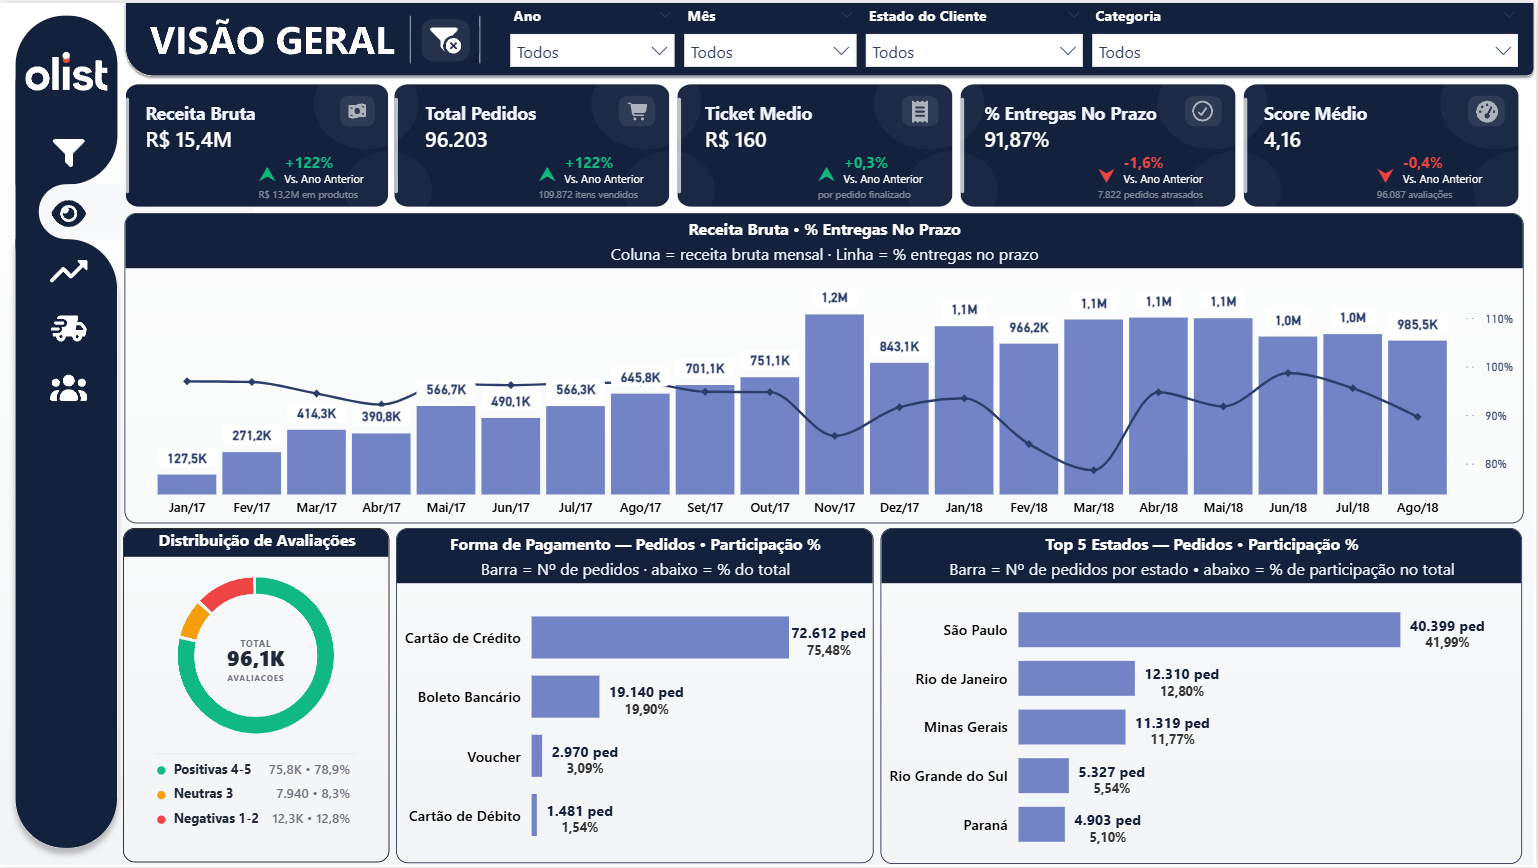

The page's visual inventory and layout, read from the dashboard file:
{"tool":"powerbi","page":{"name":"VISAO_GERAL","canvas":[1280,720],"ordinal":1},"visuals":[{"type":"group","id":"g1","title":"g_topbar","box":[345,3,925,58.1],"z":0},{"type":"group","id":"g2","title":"g_dados","box":[100.9,64.1,1178.6,653.2],"z":1000},{"type":"group","id":"g3","title":"g_btn_navegacao","box":[19,33,75,310.4],"z":2000},{"type":"cardVisual","title":"grid_cartao","fields":{"Data":["_Medidas.Receita Bruta","_Medidas.Total Pedidos","_Medidas.Ticket Medio","_Medidas.% Entregas No Prazo","_Medidas.Score Médio"]},"box":[100.9,64.1,1178.6,107.1],"z":2501,"group":"g2"},{"type":"group","id":"g4","title":"g_filtros","box":[420,3,850,58.1],"z":3001,"group":"g1"},{"type":"lineClusteredColumnComboChart","title":"Receita Bruta •  % Entregas No Prazo","fields":{"Category":["Dim_Calendario.MesAnoTexto"],"Y":["_Medidas.Receita Bruta"],"Y2":["_Medidas.% Entregas No Prazo"]},"box":[102.9,175.7,1165.7,258.6],"z":3001,"group":"g2"},{"type":"clusteredBarChart","title":"Forma de Pagamento — Pedidos • Participação %","fields":{"Category":["Dim_Forma_Pagamento.Forma Pagamento"],"Y":["_Medidas.Total Pedidos"]},"box":[330,437.9,397.9,279.3],"z":3251,"group":"g2"},{"type":"clusteredBarChart","title":"Top 5 Estados — Pedidos • Participação %","fields":{"Category":["Estado.Estado Nome"],"Y":["_Medidas.Total Pedidos"]},"box":[733.6,437.3,534.5,280],"z":3376,"group":"g2"},{"type":"group","id":"g5","title":"g_donnut","box":[102,438,222.3,278.8],"z":3501,"group":"g2"},{"type":"actionButton","title":"btn_vendedores","box":[35.5,302.6,42.2,40.9],"z":4000,"group":"g3"},{"type":"actionButton","title":"btn_logistica","box":[35.6,255,42.2,41.1],"z":4062,"group":"g3"},{"type":"actionButton","title":"btn_comercial","box":[35.6,203,42.2,41.1],"z":4125,"group":"g3"},{"type":"actionButton","title":"btn_visao_geral","box":[35,155.2,42.2,41.3],"z":4250,"group":"g3"},{"type":"actionButton","title":"btn_menu_on","box":[35.8,104.2,42.1,41.1],"z":4375,"group":"g3"},{"type":"slicer","title":"Categoria","fields":{"Values":["Categoria.Categoria"]},"box":[905,3,365,56.7],"z":4500,"group":"g4"},{"type":"actionButton","title":"btn_home","box":[19,33,75,46.4],"z":4500,"group":"g3"},{"type":"slicer","title":"Estado do Cliente","fields":{"Values":["Estado.Estado Nome"]},"box":[716.4,3,191.1,57.8],"z":5000,"group":"g4"},{"type":"image","title":"Distribuição de Avaliações","box":[102.4,438,221.9,278.8],"z":5000,"group":"g5"},{"type":"slicer","title":"Mês","fields":{"Values":["Calendario.MesNome"]},"box":[565,3,153.3,56.7],"z":5125,"group":"g4"},{"type":"slicer","title":"Ano","fields":{"Values":["Dim_Calendario.Ano"]},"box":[420,3,146.9,58.1],"z":5250,"group":"g4"},{"type":"actionButton","title":"btn_reset_filtro_rapido","box":[345,11.6,52.8,40],"z":5500,"group":"g1"},{"type":"cardVisual","title":"tt_Distribuição_de_Avaliações","fields":{"Data":["_Medidas.% Entregas Atrasadas","_Medidas.% Entregas No Prazo"]},"box":[102,438.8,220.8,275.8],"z":6000,"group":"g5"}]}

Visuals, with their boxes in screenshot pixels (x1, y1, x2, y2), scaled from the page's 1280x720 canvas onto the 1538x868 screenshot:
"g_topbar" group: bbox=[415, 4, 1526, 74]
"g_dados" group: bbox=[121, 77, 1537, 865]
"g_btn_navegacao" group: bbox=[23, 40, 113, 414]
"grid_cartao" cardVisual: bbox=[121, 77, 1537, 206]
"g_filtros" group: bbox=[505, 4, 1526, 74]
"Receita Bruta •  % Entregas No Prazo" lineClusteredColumnComboChart: bbox=[124, 212, 1524, 524]
"Forma de Pagamento — Pedidos • Participação %" clusteredBarChart: bbox=[397, 528, 875, 865]
"Top 5 Estados — Pedidos • Participação %" clusteredBarChart: bbox=[881, 527, 1524, 865]
"g_donnut" group: bbox=[123, 528, 390, 864]
"btn_vendedores" actionButton: bbox=[43, 365, 93, 414]
"btn_logistica" actionButton: bbox=[43, 307, 93, 357]
"btn_comercial" actionButton: bbox=[43, 245, 93, 294]
"btn_visao_geral" actionButton: bbox=[42, 187, 93, 237]
"btn_menu_on" actionButton: bbox=[43, 126, 94, 175]
"Categoria" slicer: bbox=[1087, 4, 1526, 72]
"btn_home" actionButton: bbox=[23, 40, 113, 96]
"Estado do Cliente" slicer: bbox=[861, 4, 1090, 73]
"Distribuição de Avaliações" image: bbox=[123, 528, 390, 864]
"Mês" slicer: bbox=[679, 4, 863, 72]
"Ano" slicer: bbox=[505, 4, 681, 74]
"btn_reset_filtro_rapido" actionButton: bbox=[415, 14, 478, 62]
"tt_Distribuição_de_Avaliações" cardVisual: bbox=[123, 529, 388, 861]
